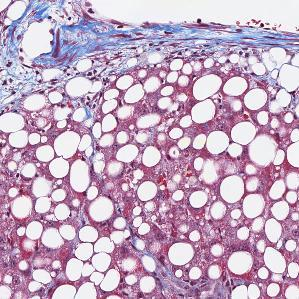fibrosis: (53, 20, 204, 66), (222, 23, 286, 61), (0, 63, 46, 98)
